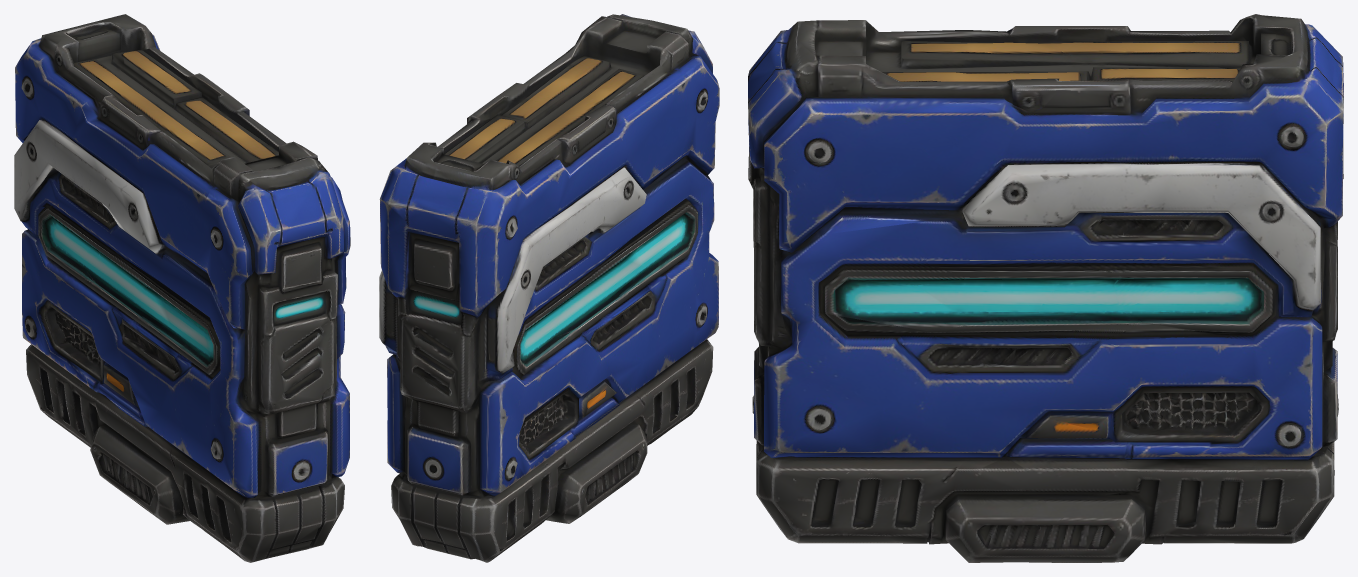
Rendered from mag_detail.glb.
The picture shows the model from 3 angles, left to right: view 1: azimuth 30°, elevation 25°; view 2: azimuth 150°, elevation 25°; view 3: azimuth 270°, elevation 25°; orthographic projection. The views are drawn at different scales.
Parts seen in each view (by area): view 1: tripo_node_a498e570-bf75-4cb3-9ed4-119f1f625bf2; view 2: tripo_node_a498e570-bf75-4cb3-9ed4-119f1f625bf2; view 3: tripo_node_a498e570-bf75-4cb3-9ed4-119f1f625bf2.
Part boxes in pixels (left/top/right/bottom): tripo_node_a498e570-bf75-4cb3-9ed4-119f1f625bf2: left=14, top=14, right=350, bottom=562; tripo_node_a498e570-bf75-4cb3-9ed4-119f1f625bf2: left=379, top=14, right=719, bottom=562; tripo_node_a498e570-bf75-4cb3-9ed4-119f1f625bf2: left=748, top=14, right=1343, bottom=562.
Size of the model in its own units: 0.3136 by 0.9123 by 1.
Materials: 1 (1 with a texture image).
